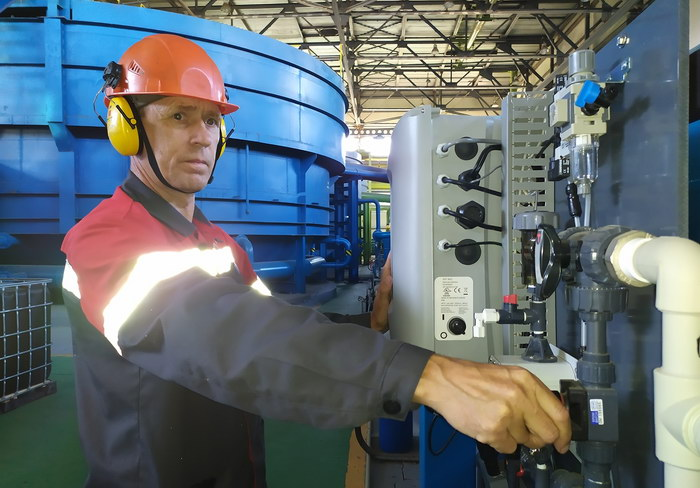person: (62, 34, 571, 488)
